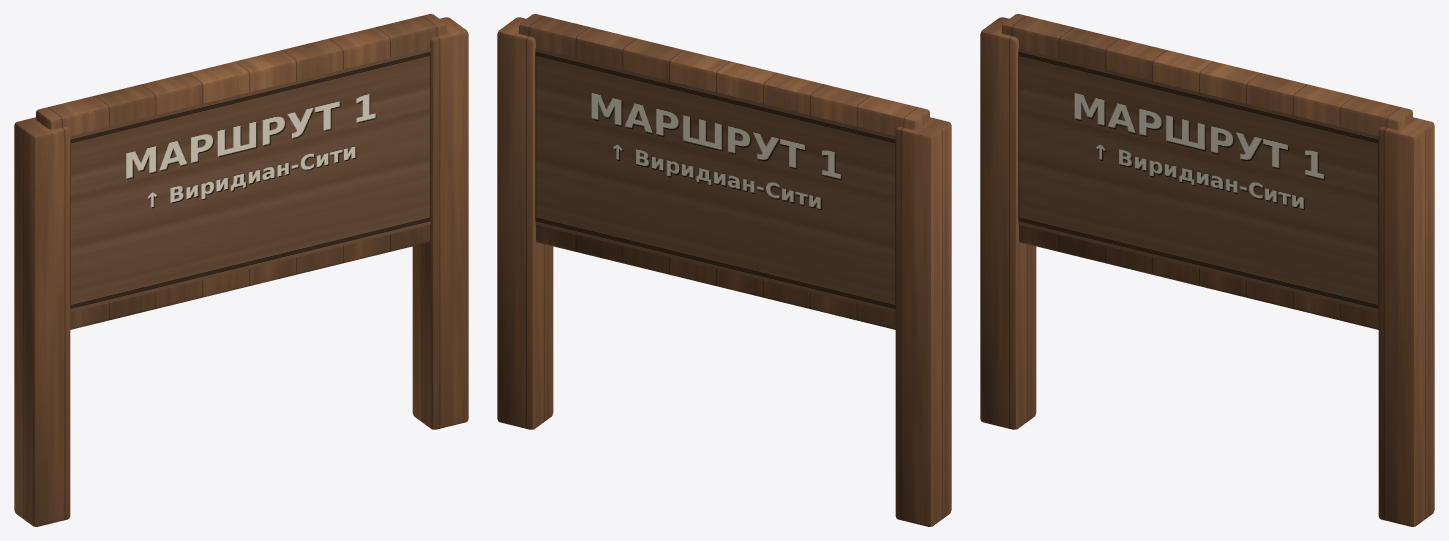
The model's file is sign_route1.glb.
The picture shows the model from 3 angles, left to right: view 1: azimuth 30°, elevation 25°; view 2: azimuth 150°, elevation 25°; view 3: azimuth 330°, elevation 25°; orthographic projection.
Visible parts, largest first — view 1: sign_route1; view 2: sign_route1; view 3: sign_route1.
Boxes of the visible parts, left/top/right/bottom form: sign_route1: left=14, top=14, right=468, bottom=526; sign_route1: left=497, top=14, right=951, bottom=526; sign_route1: left=980, top=14, right=1434, bottom=526.
Size of the model in its own units: 1.86 by 1.64 by 0.16.
2 materials, 2 textured.
